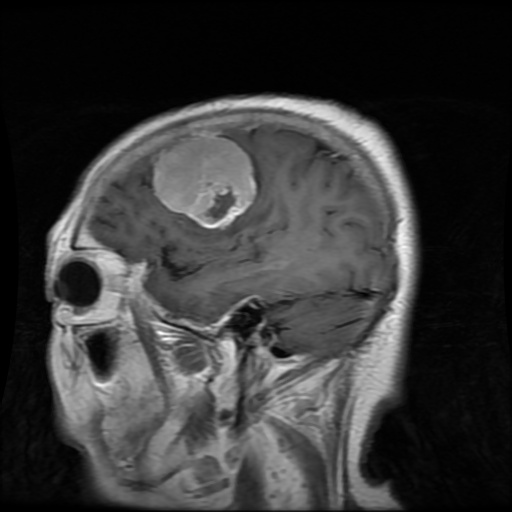meningioma: (152, 134, 256, 228)
